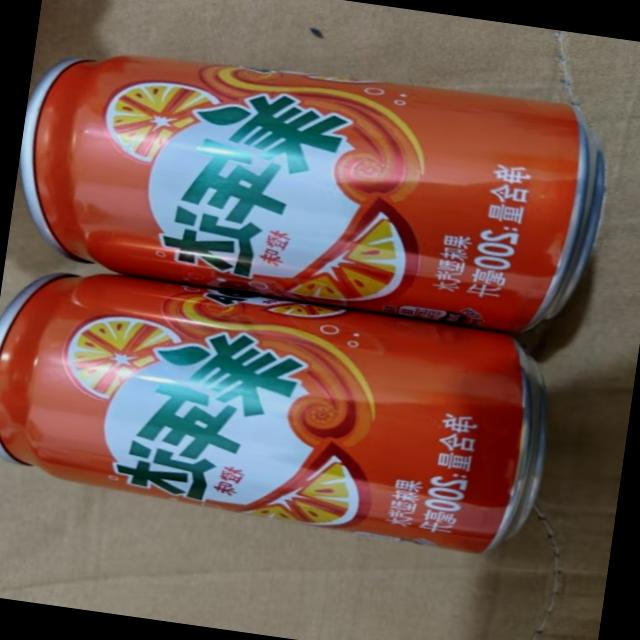can: (6, 21, 623, 339), (0, 259, 569, 565)
